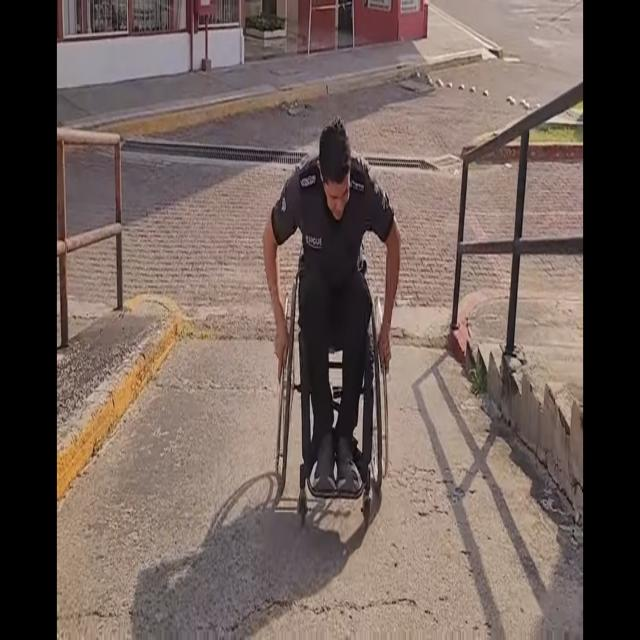wheelchairs: (272, 275, 394, 539)
